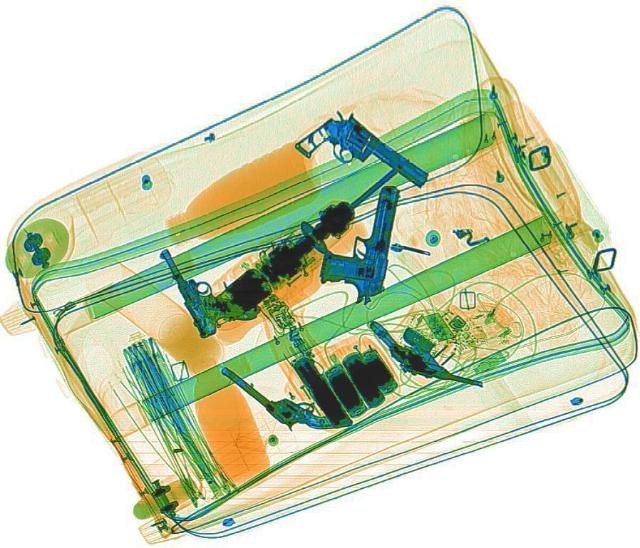Gun: (290, 105, 436, 216), (219, 340, 355, 449), (157, 230, 261, 336), (312, 178, 400, 302), (354, 318, 494, 385)
